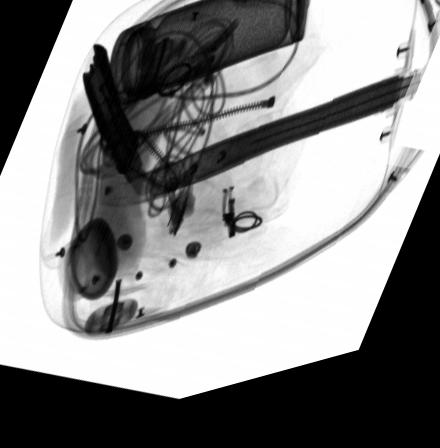Knife: (82, 47, 155, 204)
